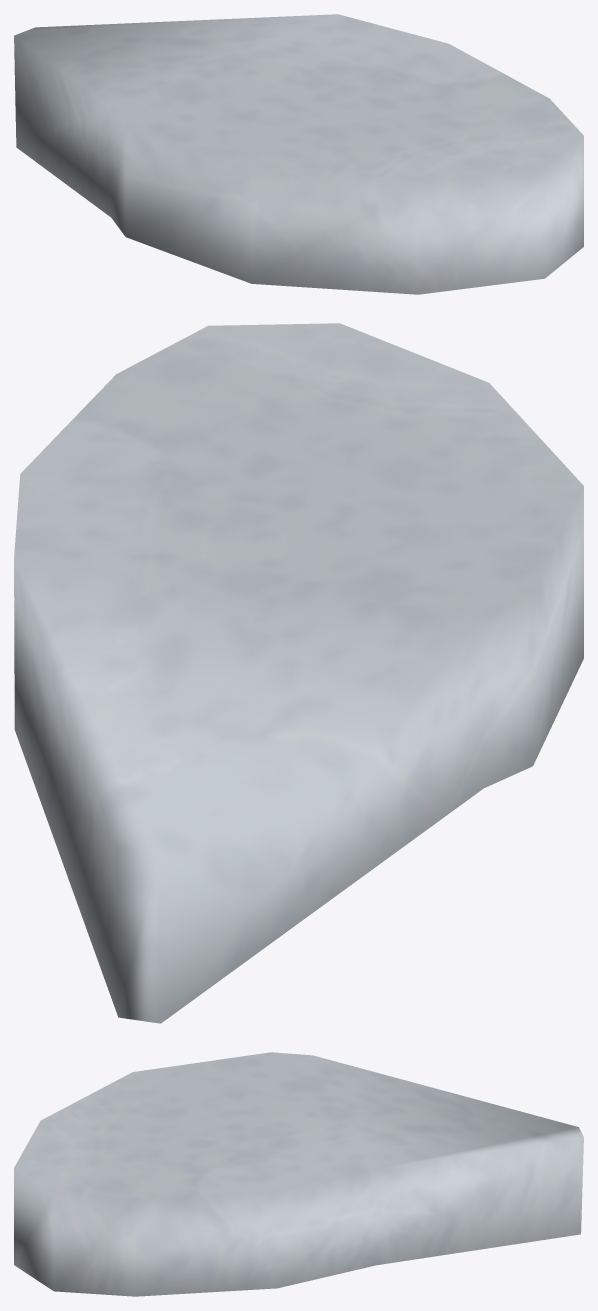
Rendered from Rock_22_Snow.fbx.
3 renders of one model, top to bottom at view 1: azimuth 30°, elevation 25°; view 2: azimuth 150°, elevation 25°; view 3: azimuth 270°, elevation 25°, orthographic. The views are drawn at different scales.
Parts seen in each view (by area): view 1: Rock_22_Snow; view 2: Rock_22_Snow; view 3: Rock_22_Snow.
Boxes of the visible parts, x1,y1,x2,y2 form: Rock_22_Snow: (14, 14, 583, 294); Rock_22_Snow: (14, 323, 583, 1023); Rock_22_Snow: (14, 1052, 583, 1296).
Size of the model in its own units: 88.1 by 40.28 by 144.
